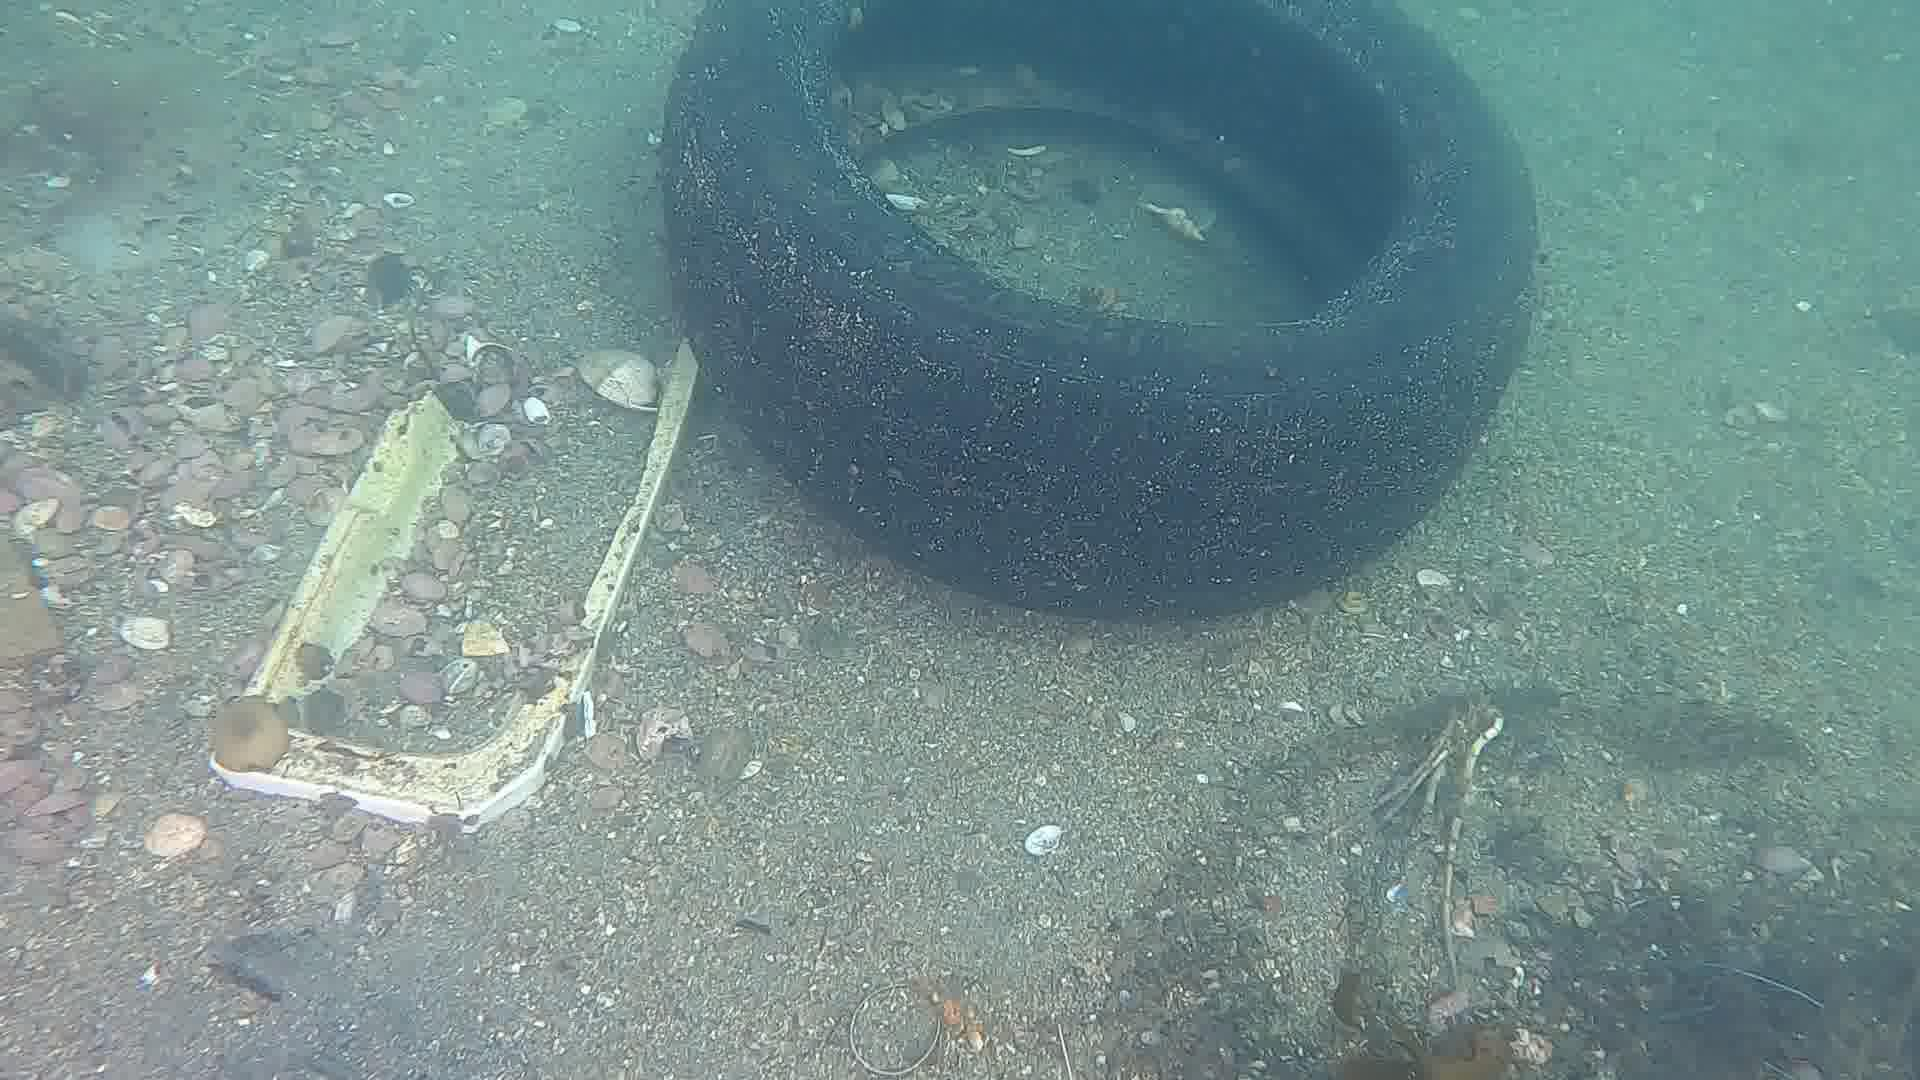tire: (654, 0, 1545, 624)
